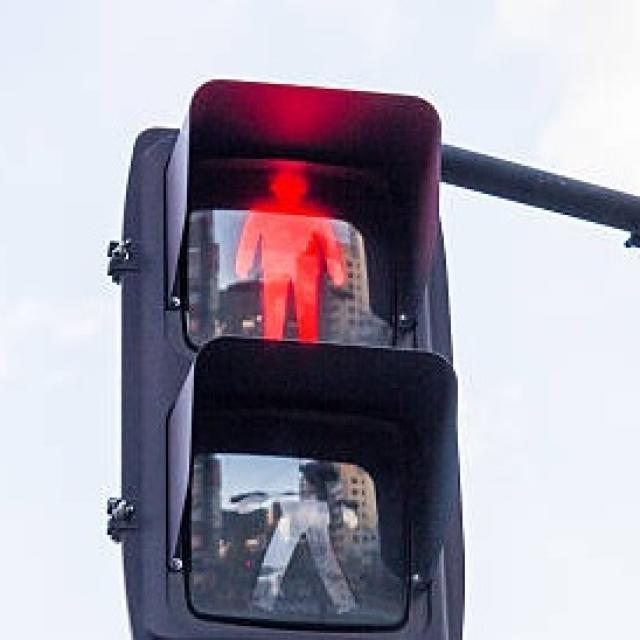red-crossing: (228, 150, 350, 350)
